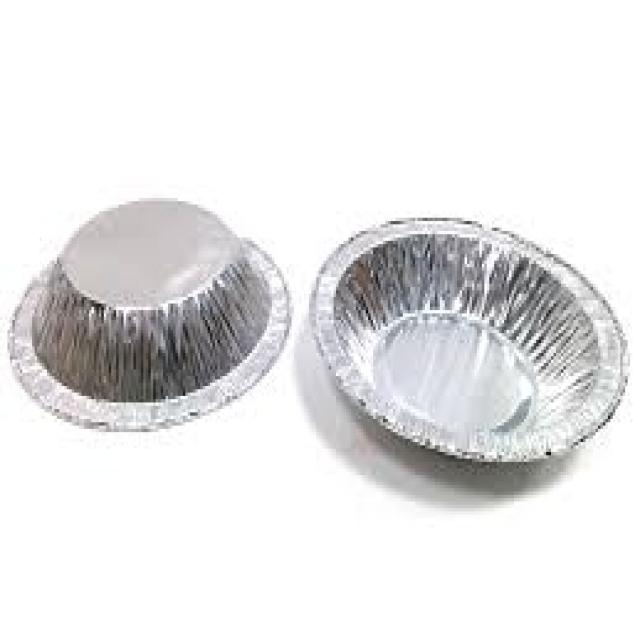kim_loai: (309, 218, 628, 468), (7, 198, 292, 435)
